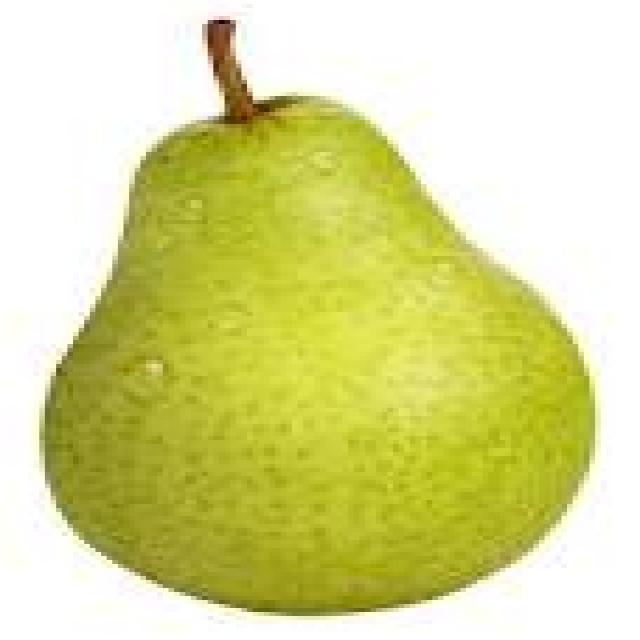pear: (17, 12, 606, 616)
